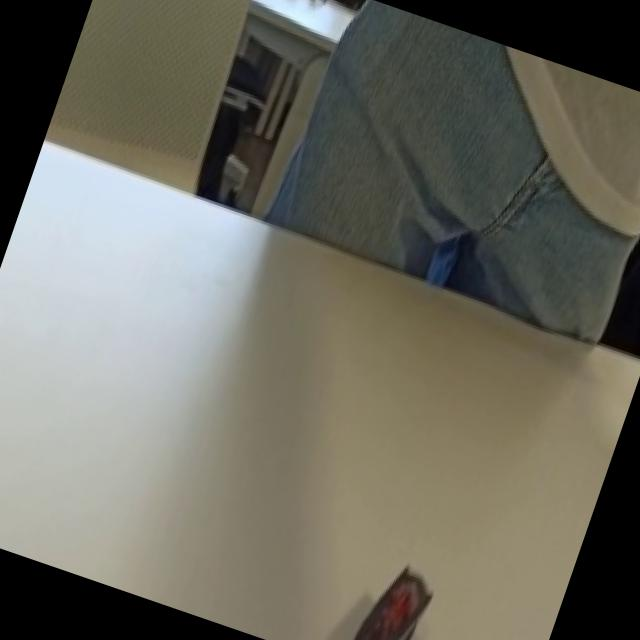2_NanoBug_Negro: (313, 529, 498, 640)
